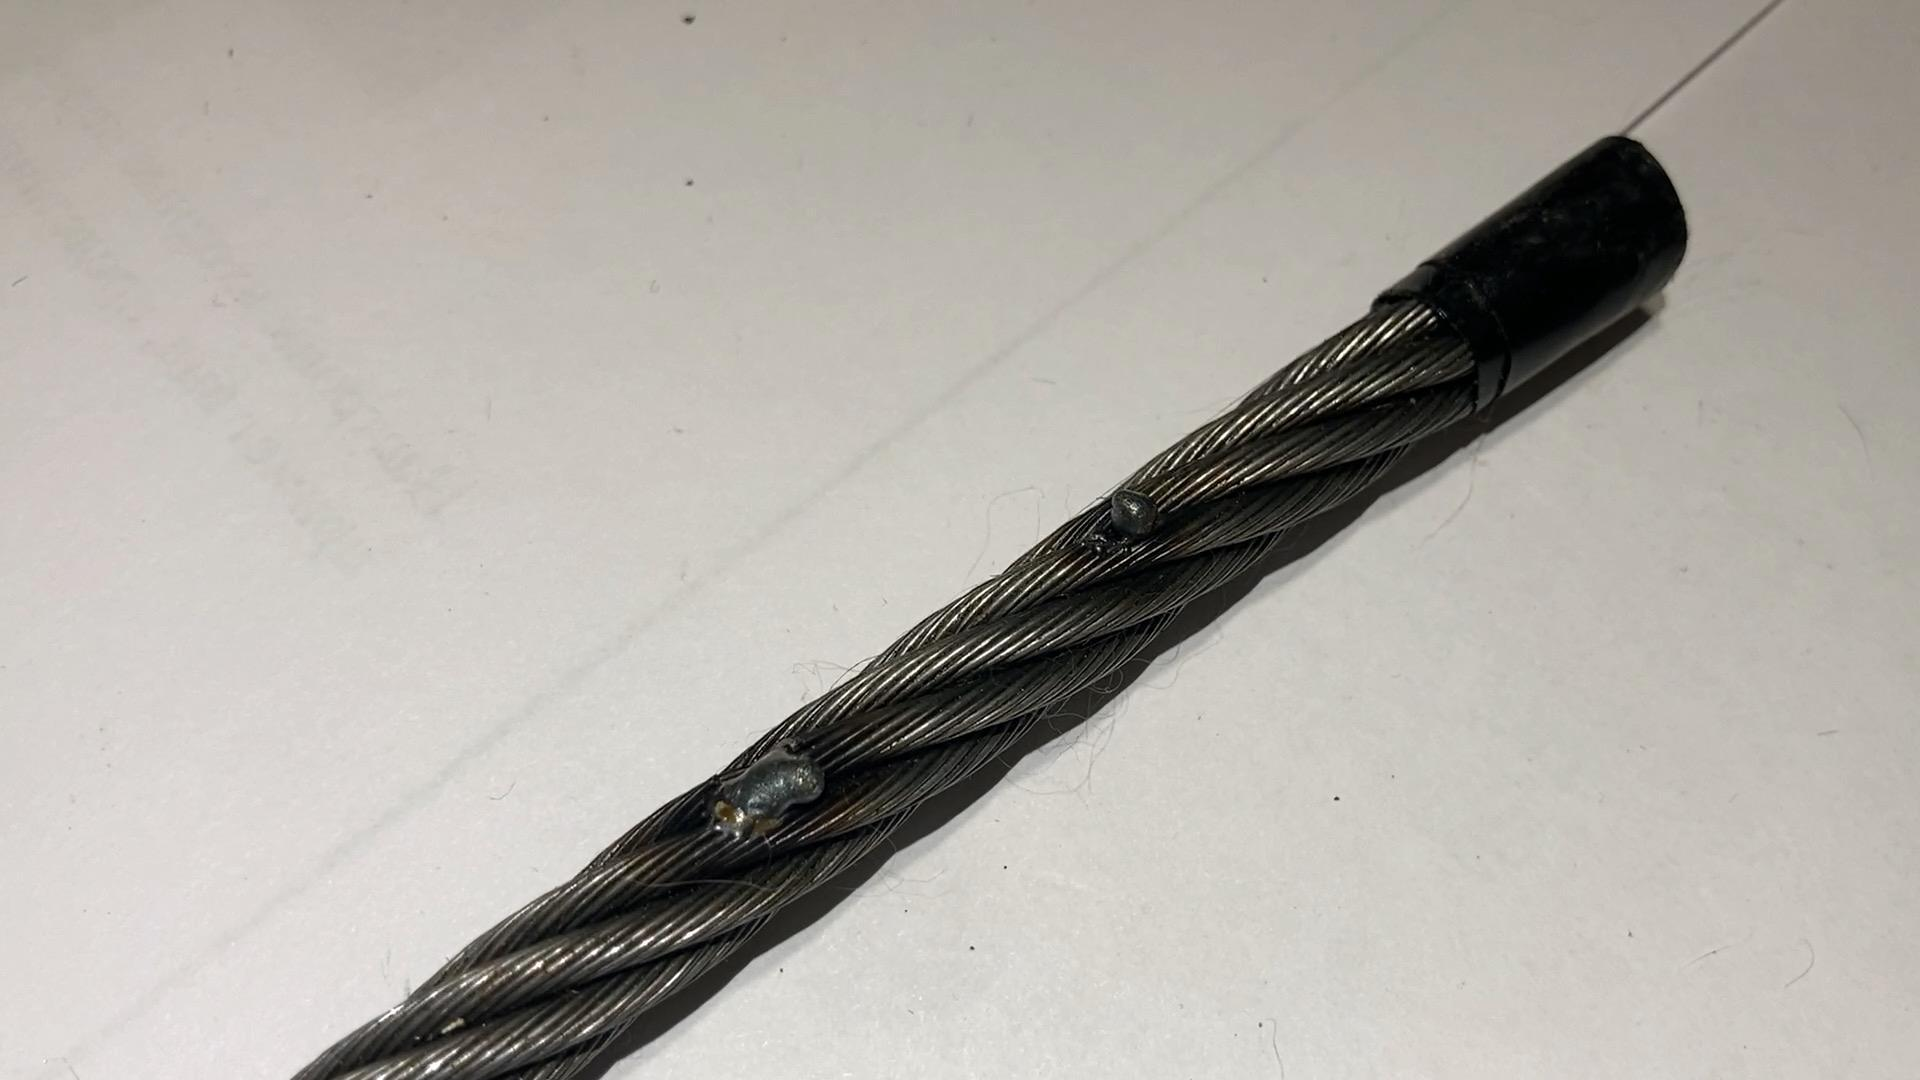thunderbolt: (702, 742, 833, 827), (1095, 487, 1178, 556)
